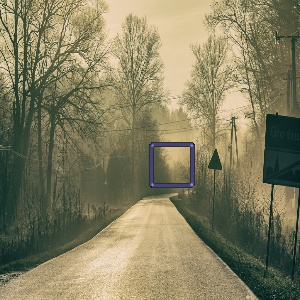square: (148, 141, 196, 188)
